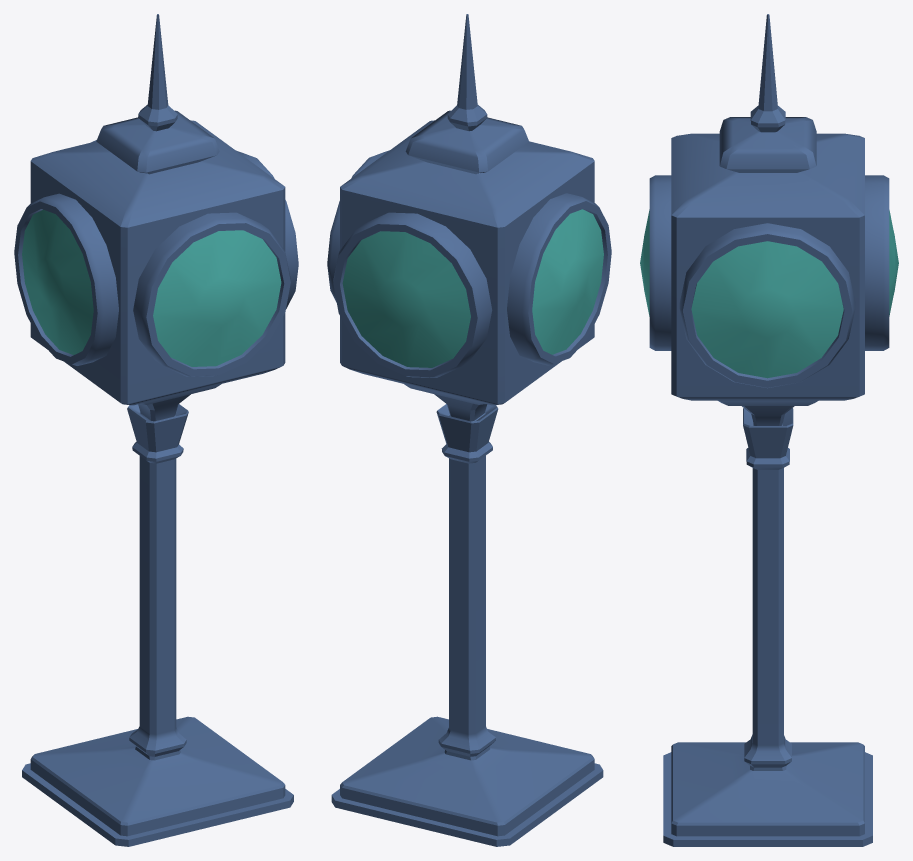
File: model_Clock_low.fbx
The picture shows the model from 3 angles, left to right: view 1: azimuth 30°, elevation 25°; view 2: azimuth 150°, elevation 25°; view 3: azimuth 270°, elevation 25°; orthographic projection.
Parts seen in each view (by area): view 1: pasted__pCube17, pasted__polySurface6, pasted__polySurface2, pasted__pCylinder22, pasted__pCylinder17, pasted__pCylinder23; view 2: pasted__pCube17, pasted__polySurface4, pasted__polySurface2, pasted__pCylinder24, pasted__pCylinder17, pasted__pCylinder23; view 3: pasted__pCube17, pasted__polySurface3, pasted__pCylinder23, pasted__pCylinder24, pasted__pCylinder22, pasted__polySurface6, pasted__polySurface4.
Part boxes in pixels (x1,y1,x2,y2): pasted__pCube17: [22, 14, 293, 846]; pasted__polySurface6: [153, 230, 281, 366]; pasted__polySurface2: [22, 209, 93, 354]; pasted__pCylinder22: [133, 212, 290, 376]; pasted__pCylinder17: [14, 193, 118, 365]; pasted__pCylinder23: [236, 150, 298, 308]; pasted__pCube17: [331, 14, 603, 846]; pasted__polySurface4: [342, 231, 470, 367]; pasted__polySurface2: [532, 209, 603, 354]; pasted__pCylinder24: [333, 212, 492, 377]; pasted__pCylinder17: [507, 193, 611, 365]; pasted__pCylinder23: [327, 150, 389, 302]; pasted__pCube17: [663, 14, 872, 846]; pasted__polySurface3: [691, 241, 843, 378]; pasted__pCylinder23: [679, 223, 855, 388]; pasted__pCylinder24: [865, 175, 889, 350]; pasted__pCylinder22: [649, 175, 671, 350]; pasted__polySurface6: [640, 209, 649, 316]; pasted__polySurface4: [889, 210, 898, 316].
Size of the model in its own units: 132 by 450 by 134.
